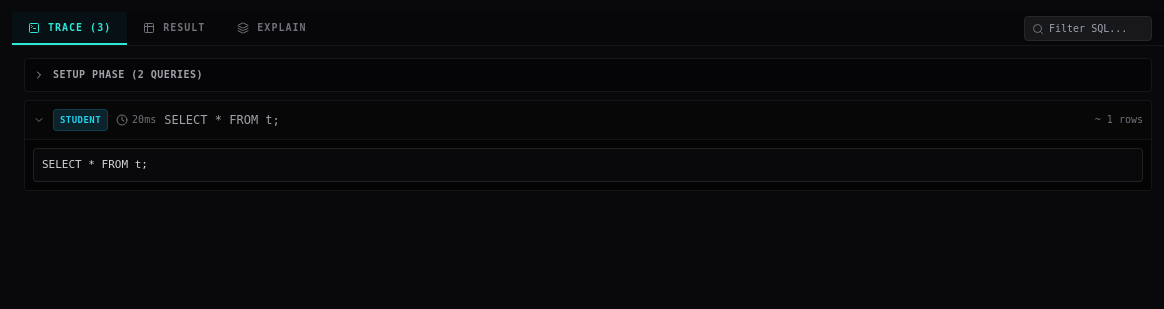
Scenario: QueryInspector › renders trace list grouped by phase (setup collapsed)
This screenshot has width=1164, height=309.
Expected: the text "CREATE TABLE t (id INT);" is not shown
Expected: the text "SELECT * FROM t;" next to "ms" is shown, [164, 113, 280, 127]
Expand setup
What coordinates should you click on to do the following:
click the text "Setup Phase (2 queries)"
I would click on:
 (118, 75)
Its box is [33, 67, 203, 83].
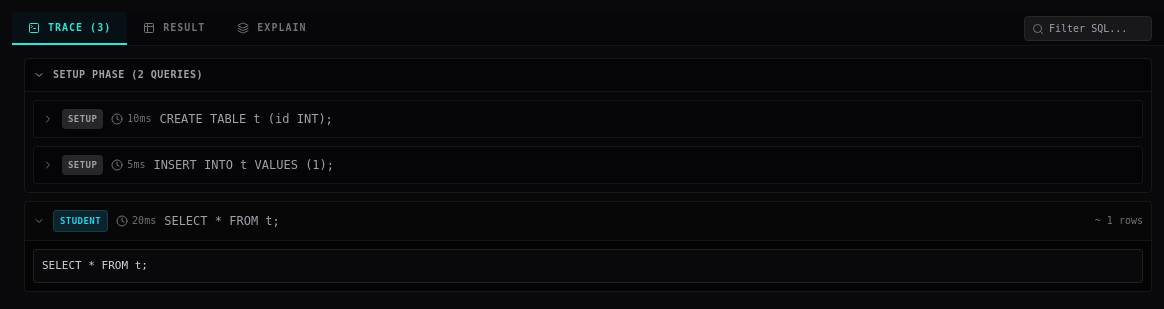
Now the text "CREATE TABLE t (id INT);" is shown, box [159, 111, 333, 127]
